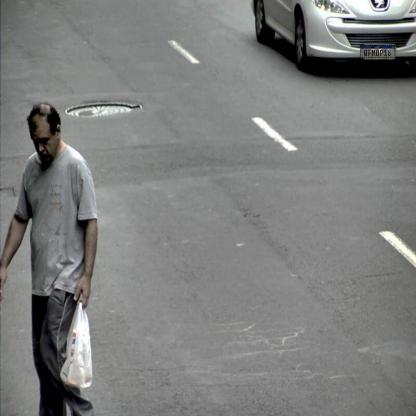PlacaM: (360, 45, 396, 58)
